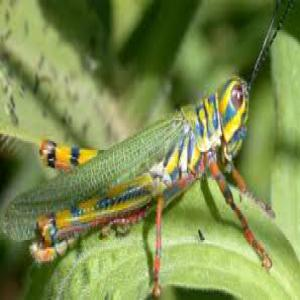locust: (5, 44, 260, 268)
